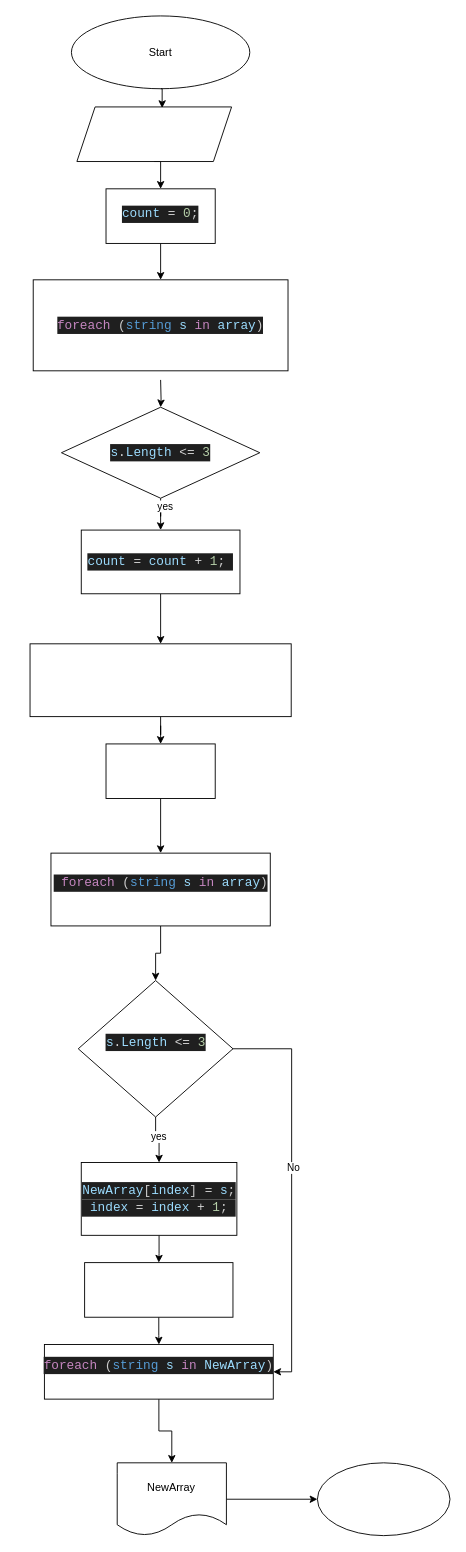
The diagram is 466 pixels wide and 1552 high, and some of its shapes have lost their labels. The centre of each missing label's shape, as x and y in pixels:
CreateNewArray: point (154, 134)
Finish: point (383, 1499)
index = 0 ;: point (160, 771)
index = index + 1 ;: point (158, 1289)
string [] NewArray = new string [ count ];: point (160, 680)
